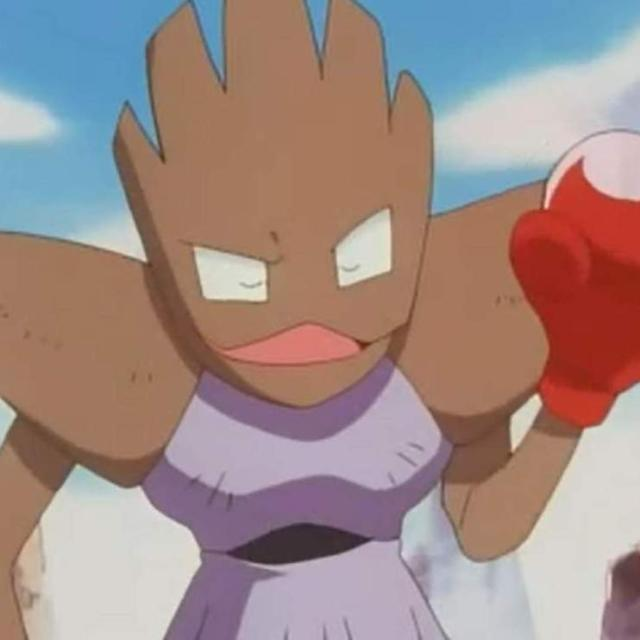Hitmonchan: (29, 0, 639, 631)
